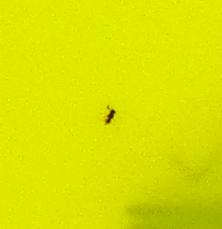Hymenoptera: (100, 100, 122, 129)
